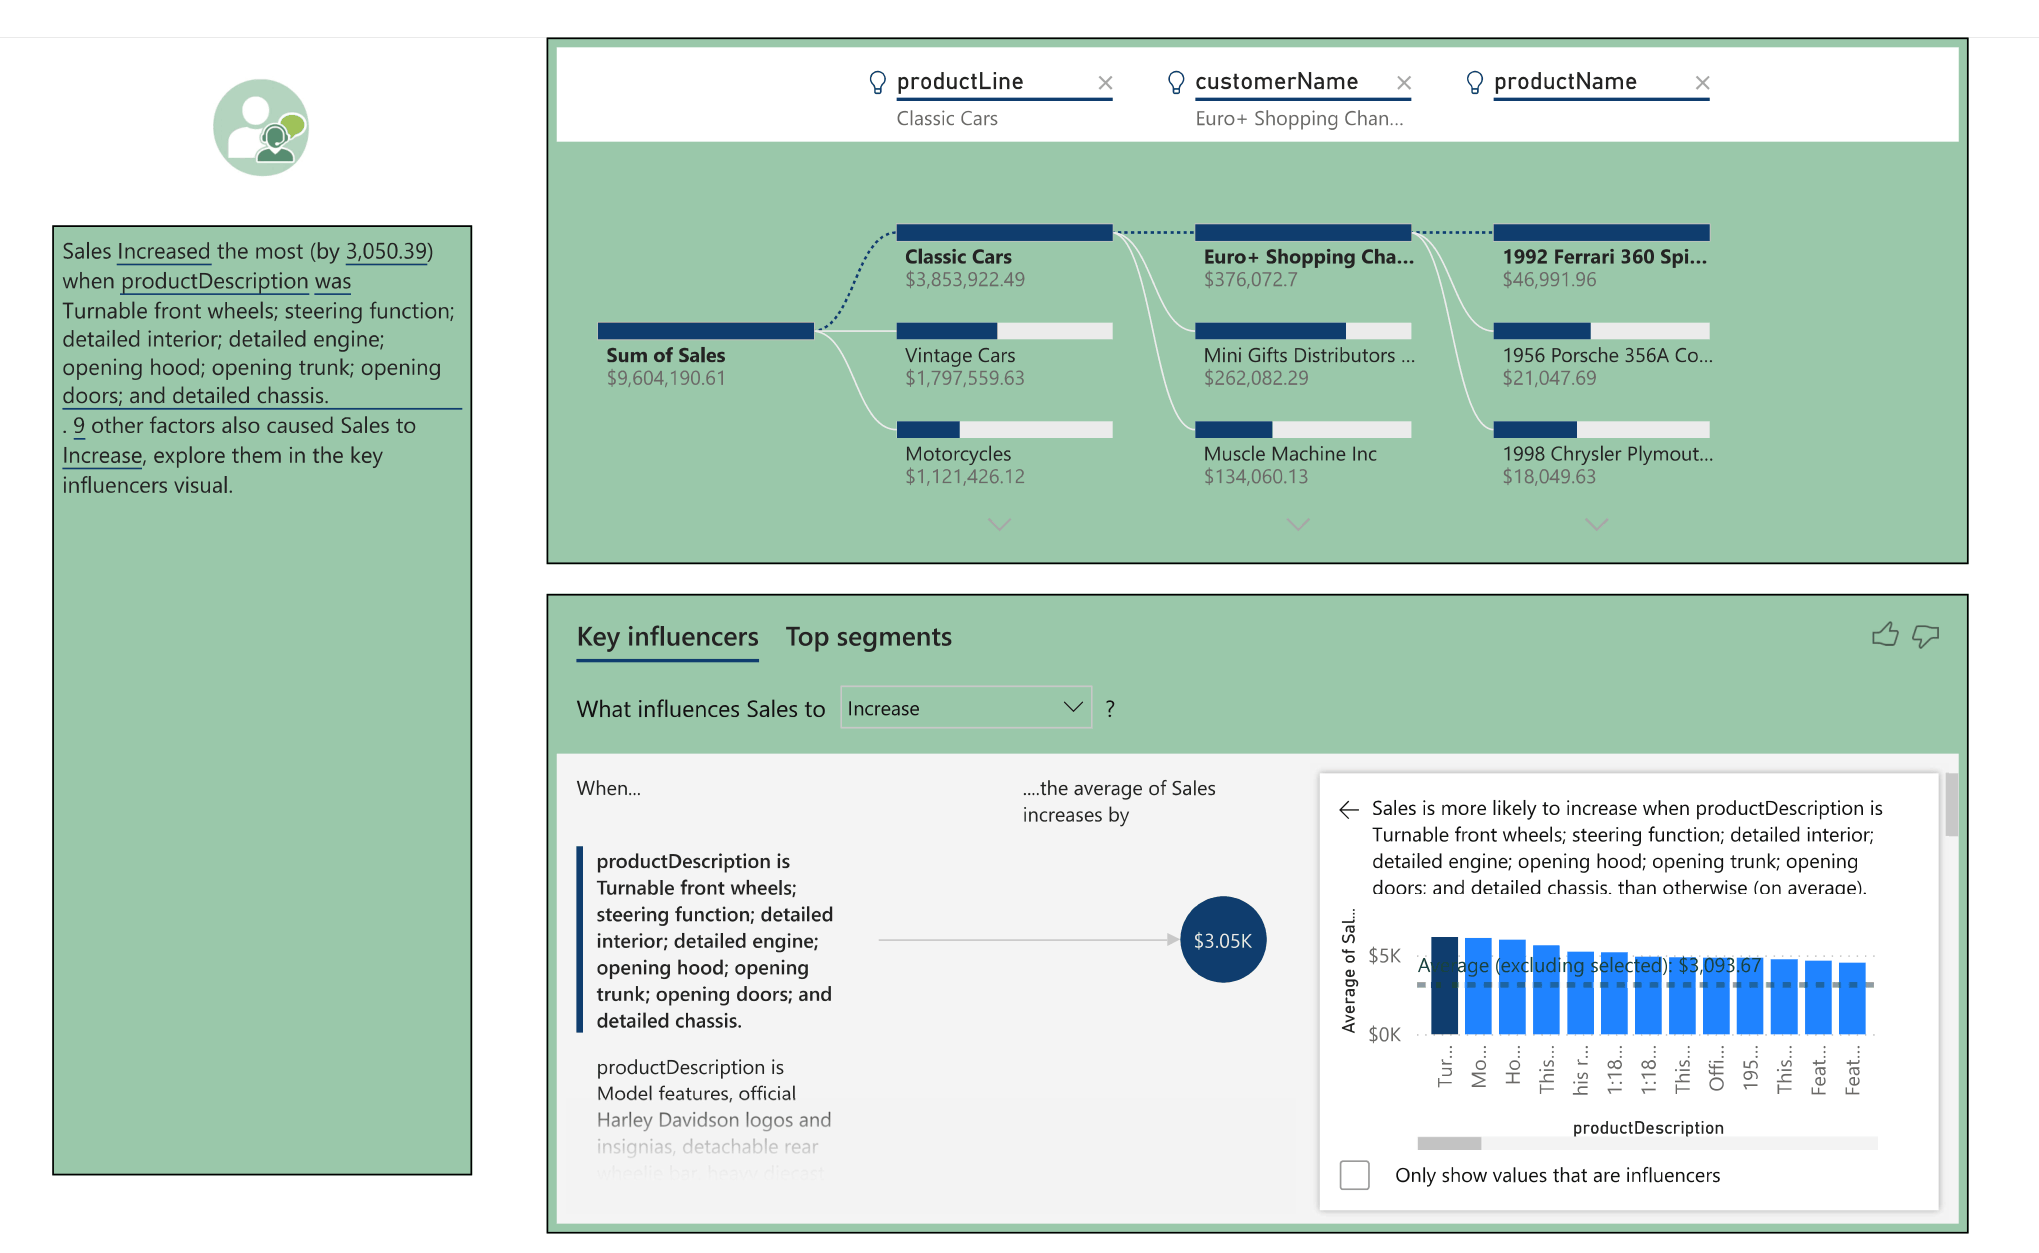

This screenshot's page, from the dashboard's own definition file:
{"tool":"powerbi","page":{"name":"Page 3","canvas":[1280,720],"ordinal":3},"visuals":[{"type":"image","box":[108.3,0,126.7,113.3],"z":0},{"type":"decompositionTreeVisual","fields":{"ExplainBy":["productlines.productLine","customers.customerName","products.productName"],"Analyze":["Sum(order_details.Sales)"]},"box":[343.3,0,856.7,316.7],"z":1000},{"type":"keyDriversVisual","fields":{"Target":["order_details.Sales"],"ExplainBy":["products.productDescription"]},"box":[343.3,335,856.7,385],"z":2000},{"type":"textbox","box":[45,113.3,253.3,571.7],"z":3000}]}

Visuals, with their boxes on the page's 1280x720 design canvas (x1, y1, x2, y2). These are canvas units, not pixel positions in the 2039x1253 screenshot, which may show the page scaled, cropped or inside an application window:
image: <box>108,0,235,113</box>
decompositionTreeVisual - productlines.productLine x customers.customerName: <box>343,0,1200,317</box>
keyDriversVisual - order_details.Sales x products.productDescription: <box>343,335,1200,720</box>
textbox: <box>45,113,298,685</box>
